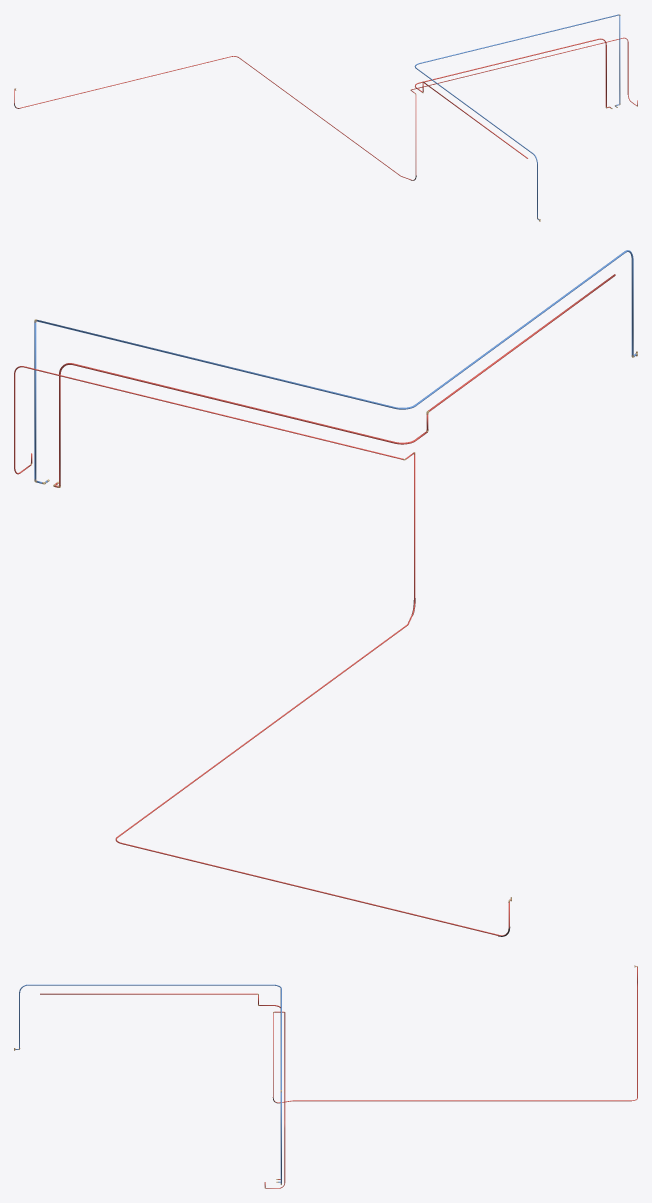
Rendered from slab_pipes_supply__water_heater__c18dd513.glb.
3 views of the same model, one above another, from view 1: azimuth 30°, elevation 25°; view 2: azimuth 150°, elevation 25°; view 3: azimuth 270°, elevation 25° (orthographic). The views are drawn at different scales.
Parts seen in each view (by area): view 1: pipe_supply_tb_recirc_return, pipe_supply_tb_cold_wh_tankless, pipe_supply_tb_hot_wh_tankless; view 2: pipe_supply_tb_recirc_return, pipe_supply_tb_cold_wh_tankless, pipe_supply_tb_hot_wh_tankless; view 3: pipe_supply_tb_recirc_return, pipe_supply_tb_cold_wh_tankless, pipe_supply_tb_hot_wh_tankless.
Boxes of the visible parts, x1=… form: pipe_supply_tb_recirc_return: x1=14, y1=37, x2=637, y2=180; pipe_supply_tb_cold_wh_tankless: x1=414, y1=14, x2=620, y2=219; pipe_supply_tb_hot_wh_tankless: x1=415, y1=38, x2=610, y2=158; pipe_supply_tb_recirc_return: x1=14, y1=366, x2=510, y2=935; pipe_supply_tb_cold_wh_tankless: x1=34, y1=250, x2=636, y2=483; pipe_supply_tb_hot_wh_tankless: x1=54, y1=274, x2=615, y2=487; pipe_supply_tb_recirc_return: x1=264, y1=966, x2=637, y2=1188; pipe_supply_tb_cold_wh_tankless: x1=15, y1=984, x2=281, y2=1183; pipe_supply_tb_hot_wh_tankless: x1=40, y1=993, x2=280, y2=1179.
Size of the model in its own units: 10.79 by 2.66 by 12.54.
